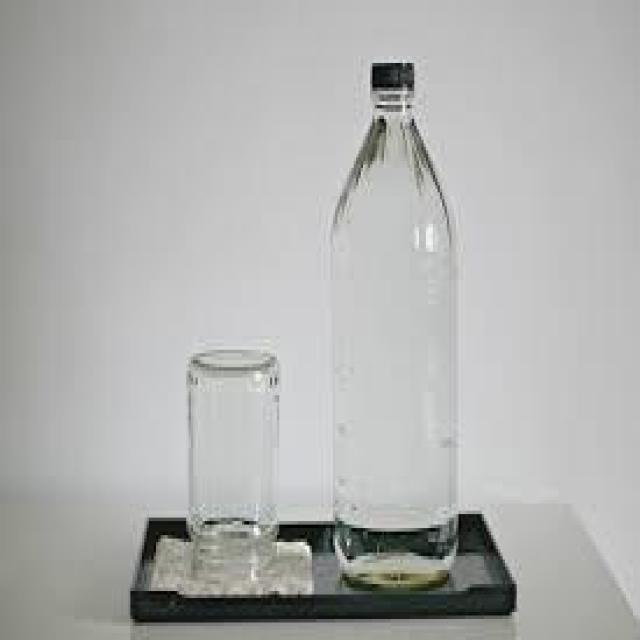Glass: (326, 62, 459, 594), (185, 348, 283, 572)
